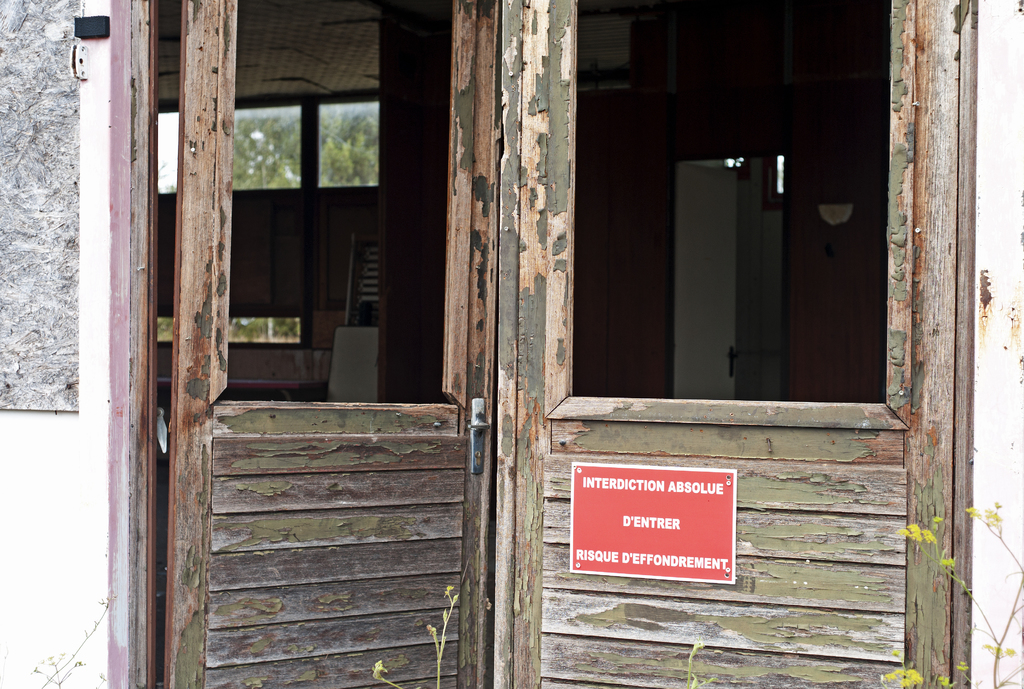door: (532, 8, 914, 689), (183, 0, 482, 689)
handle: (467, 418, 490, 439)
